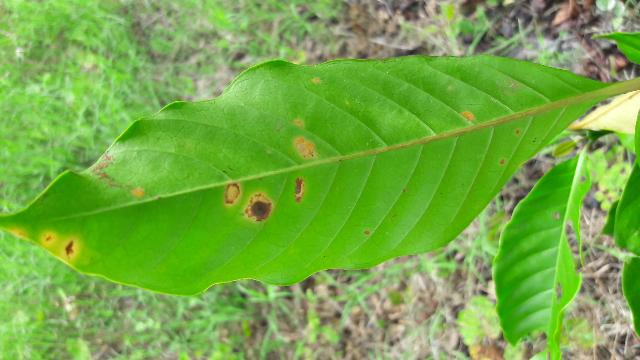rust_level_1: (3, 54, 608, 289)
